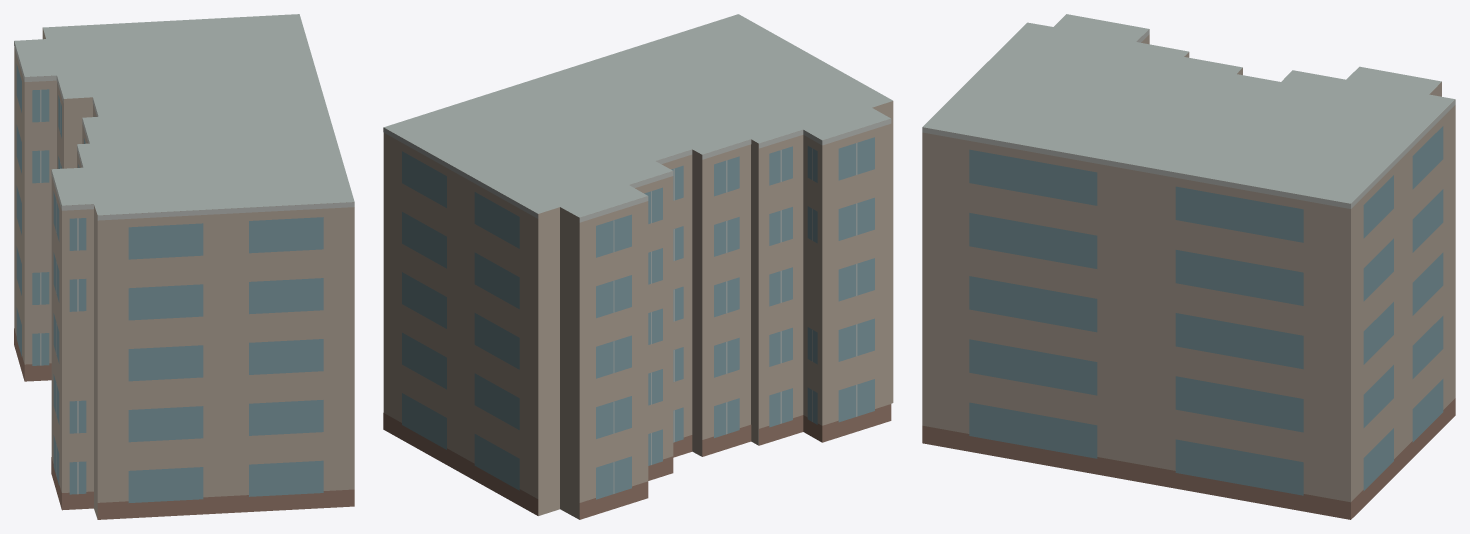
The model's file is survey-upis-32888603.glb.
The picture shows the model from 3 angles, left to right: view 1: azimuth 30°, elevation 25°; view 2: azimuth 150°, elevation 25°; view 3: azimuth 270°, elevation 25°; orthographic projection. The views are drawn at different scales.
Parts seen in each view (by area): view 1: survey-upis-32888603.tmp; view 2: survey-upis-32888603.tmp; view 3: survey-upis-32888603.tmp.
Part boxes in pixels (x1,y1,x2,y2): survey-upis-32888603.tmp: (14, 14, 354, 519); survey-upis-32888603.tmp: (383, 14, 893, 519); survey-upis-32888603.tmp: (922, 14, 1455, 519).
Bounding box in the file's own units: 18.68 × 14.5 × 22.18.
